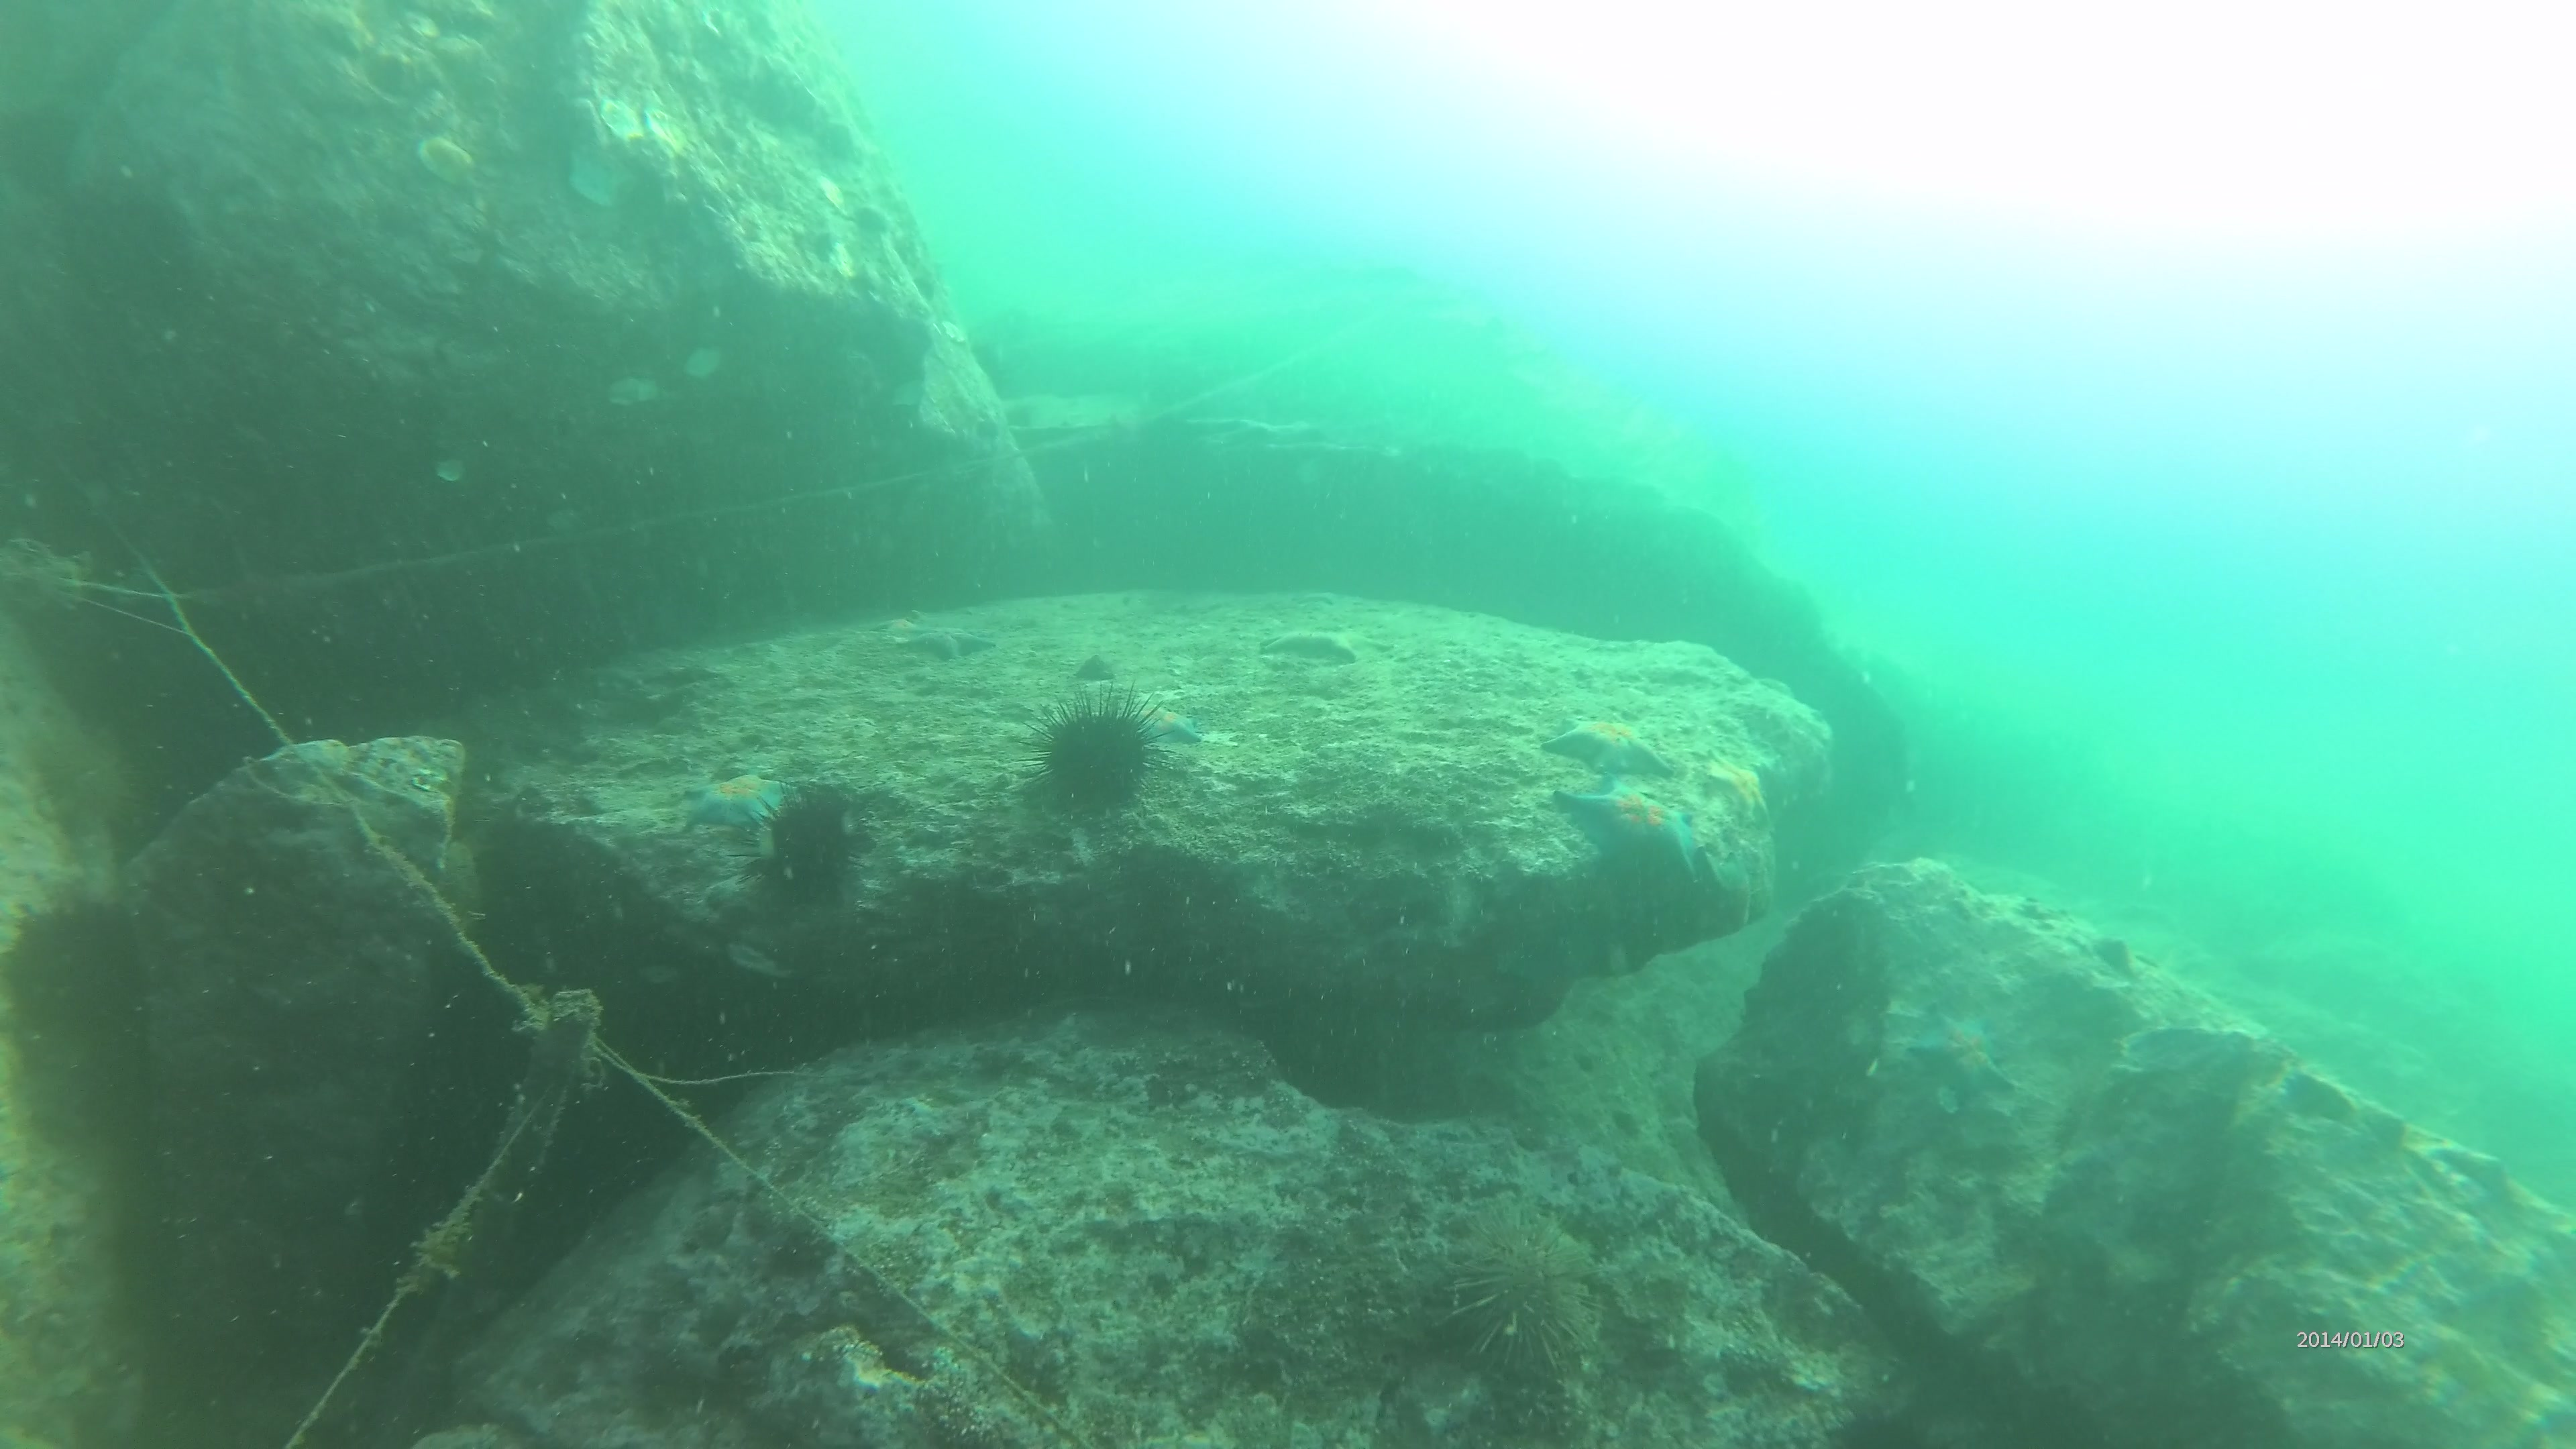echinus: (1445, 1207, 1614, 1369), (7, 899, 143, 1039), (1033, 701, 1146, 810), (759, 787, 860, 902)
starfish: (1904, 1005, 2026, 1122), (1575, 782, 1706, 872), (1546, 709, 1681, 778), (681, 770, 780, 842), (1704, 750, 1780, 826), (895, 617, 1000, 671), (1127, 697, 1196, 761)
